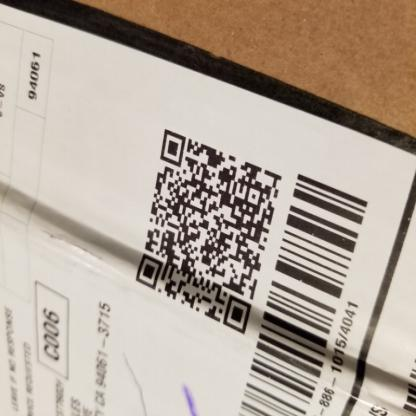barcode: (237, 170, 375, 416), (403, 342, 416, 416)
qr: (130, 124, 287, 342)
